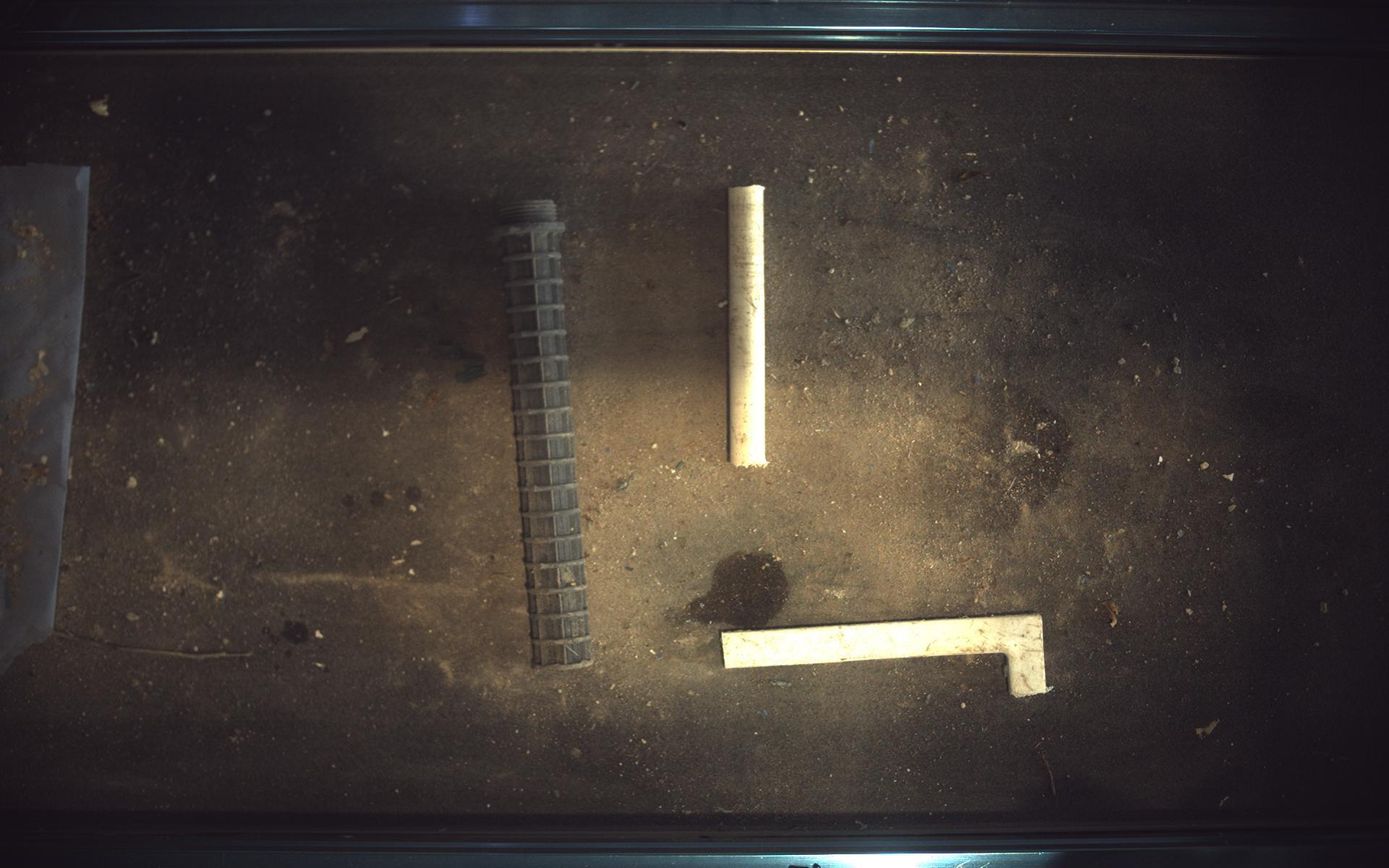pipes: (729, 184, 768, 467)
plastic: (498, 200, 592, 669), (723, 616, 1049, 699)
